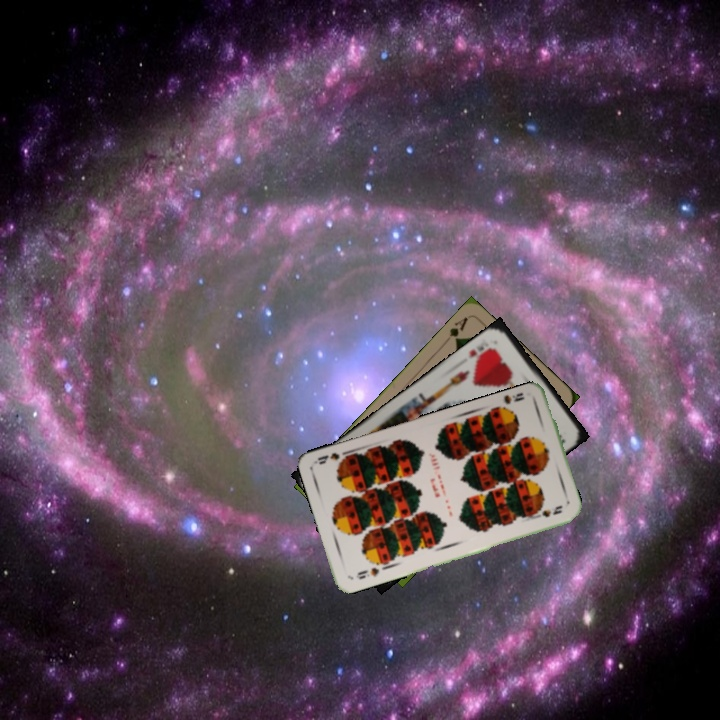GA: (440, 313, 471, 347)
HK: (464, 342, 497, 364)
S9: (493, 388, 527, 416), (352, 563, 382, 582)
